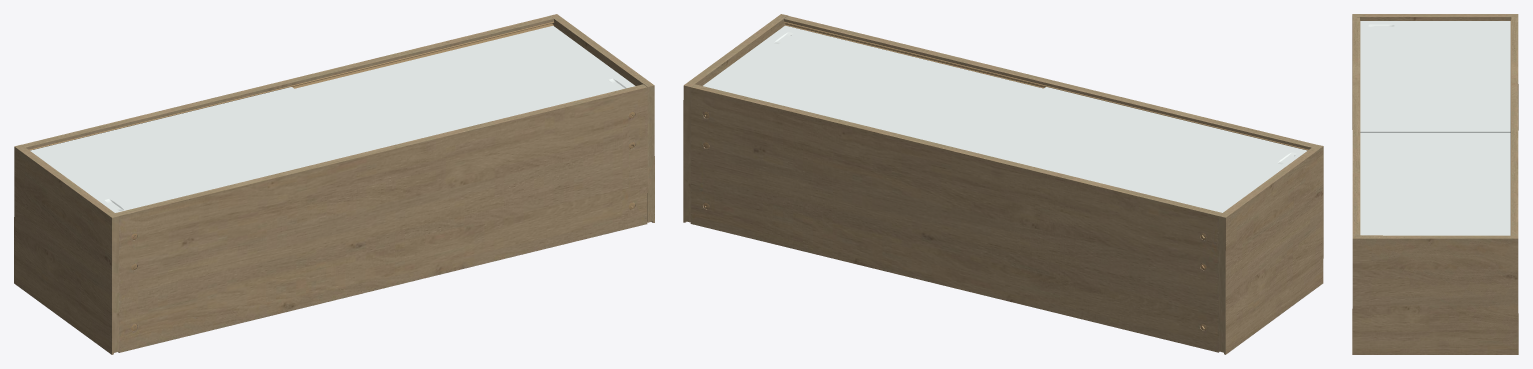
The model's file is knoxhult-armario-de-pared-puertas-correderas-efecto-roble-90621081.glb.
The picture shows the model from 3 angles, left to right: view 1: azimuth 30°, elevation 25°; view 2: azimuth 150°, elevation 25°; view 3: azimuth 270°, elevation 25°; orthographic projection. The views are drawn at different scales.
Visible parts, largest first — view 1: ASY_ART_90621081_S01_NV01; view 2: ASY_ART_90621081_S01_NV01; view 3: ASY_ART_90621081_S01_NV01.
Part boxes in pixels (x1,y1,x2,y2): ASY_ART_90621081_S01_NV01: [14, 14, 654, 354]; ASY_ART_90621081_S01_NV01: [683, 14, 1323, 354]; ASY_ART_90621081_S01_NV01: [1352, 14, 1518, 354].
Size of the model in its own units: 1.2 by 0.2905 by 0.3754.
2 materials, 2 textured.
